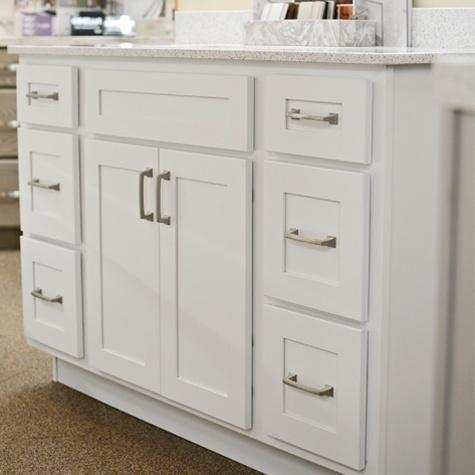cabinet_door: (161, 160, 249, 403), (86, 151, 157, 372), (264, 166, 364, 292), (263, 322, 362, 438), (89, 80, 250, 142), (265, 80, 370, 155), (24, 241, 81, 351), (21, 135, 77, 230), (19, 69, 76, 124)
handle: (280, 368, 339, 401), (285, 228, 338, 250), (286, 106, 340, 127), (136, 168, 153, 224), (155, 169, 172, 225), (27, 172, 65, 194), (31, 287, 66, 309), (24, 86, 64, 105)
